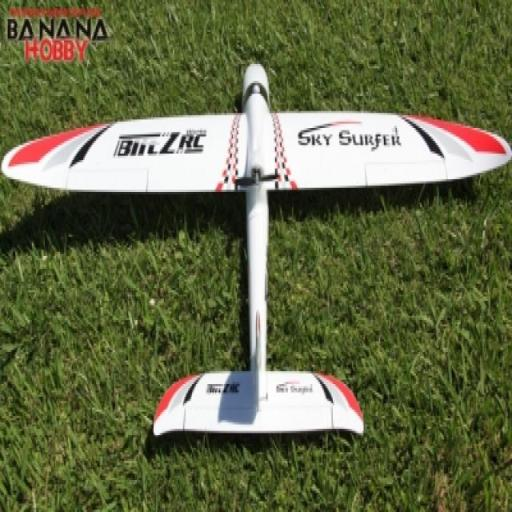uav: (1, 62, 512, 432)
